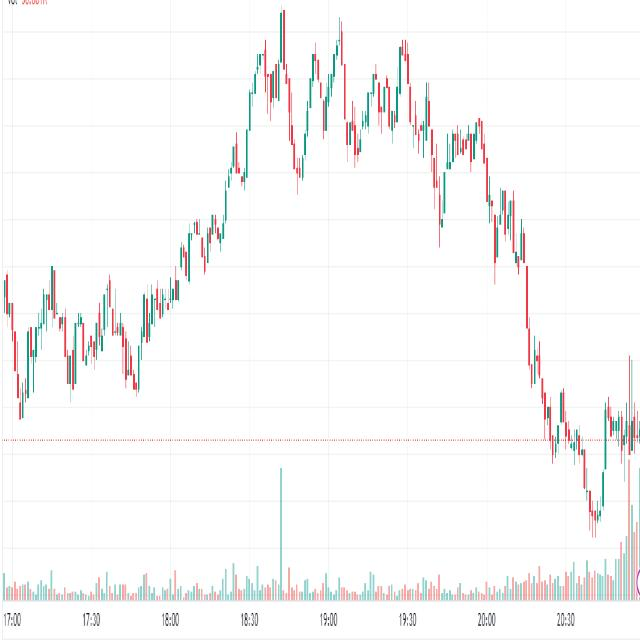Rounding-Top: (177, 5, 548, 370)
